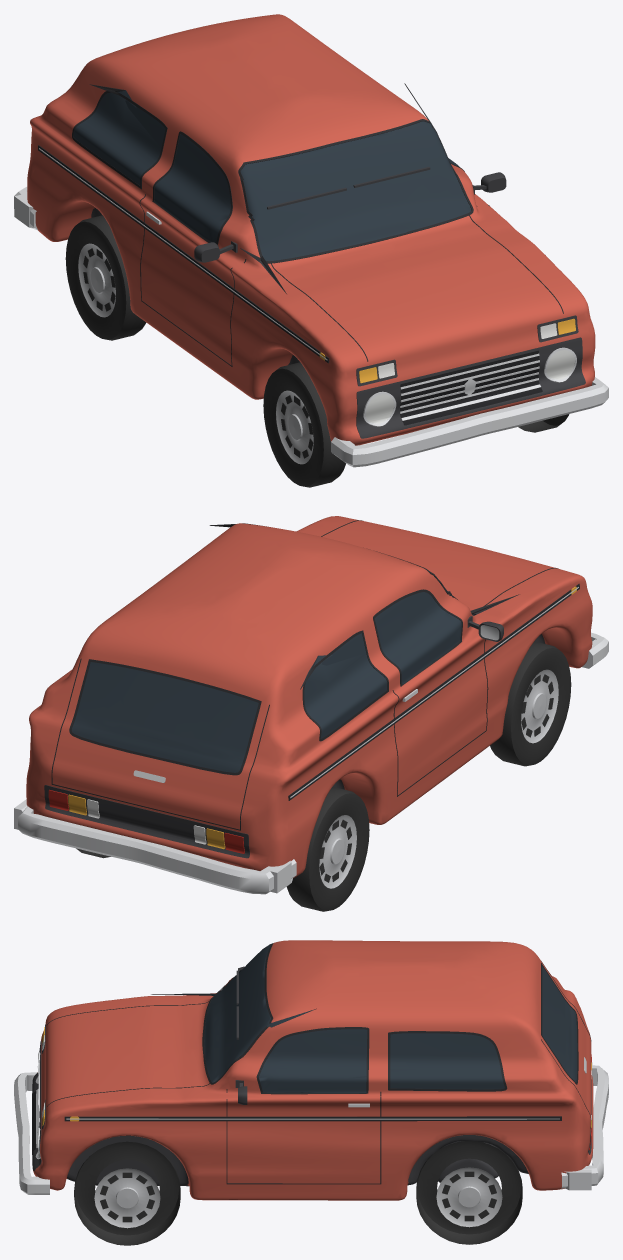
File: niva.glb
3 views of the same model, one above another, from view 1: azimuth 30°, elevation 25°; view 2: azimuth 150°, elevation 25°; view 3: azimuth 270°, elevation 25° (orthographic). The views are drawn at different scales.
Visible parts, largest first — view 1: paint, glass, trim, wheel_fr, wheel_rr, headlights; view 2: paint, glass, trim, wheel_fr, wheel_rr, taillights; view 3: paint, glass, trim, wheel_fl, wheel_rl.
Part boxes in pixels (x1=…): paint: x1=27, y1=14, x2=595, y2=445; glass: x1=73, y1=90, x2=470, y2=267; trim: x1=14, y1=83, x2=608, y2=467; wheel_fr: x1=263, y1=362, x2=345, y2=487; wheel_rr: x1=65, y1=215, x2=146, y2=340; headlights: x1=366, y1=350, x2=574, y2=423; paint: x1=26, y1=516, x2=592, y2=878; glass: x1=72, y1=570, x2=513, y2=772; trim: x1=14, y1=520, x2=608, y2=894; wheel_fr: x1=490, y1=641, x2=571, y2=766; wheel_rr: x1=286, y1=786, x2=369, y2=911; taillights: x1=48, y1=789, x2=244, y2=853; paint: x1=33, y1=940, x2=593, y2=1200; glass: x1=162, y1=944, x2=577, y2=1092; trim: x1=14, y1=943, x2=608, y2=1194; wheel_fl: x1=74, y1=1141, x2=180, y2=1245; wheel_rl: x1=416, y1=1140, x2=522, y2=1244.
Bounding box in the file's own units: 1.96 × 1.64 × 3.83.
